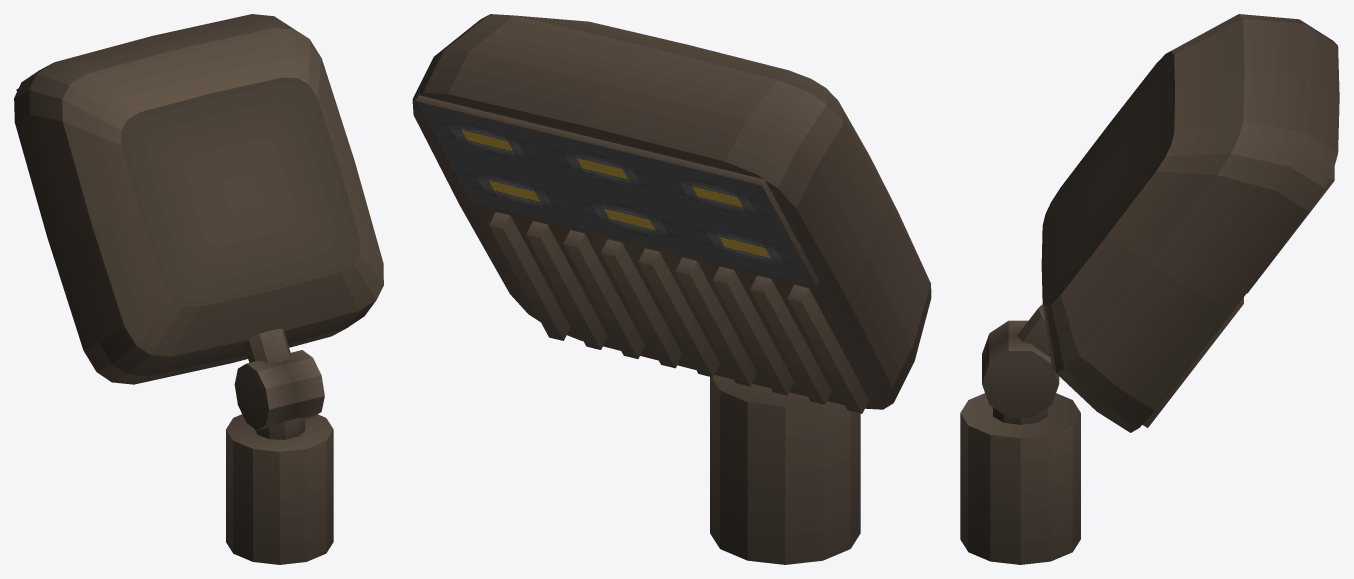
The model's file is floodlight_lithdsxf3sf_g.obj.
3 renders of one model, left to right at view 1: azimuth 30°, elevation 25°; view 2: azimuth 150°, elevation 25°; view 3: azimuth 270°, elevation 25°, orthographic. The views are drawn at different scales.
Visible parts, largest first — view 1: fixture; view 2: fixture; view 3: fixture.
Part boxes in pixels (x1,y1,x2,y2): fixture: (14,14,383,564); fixture: (412,14,931,564); fixture: (960,14,1339,564).
Bounding box in the file's own units: 0.4643 × 0.6739 × 0.4917.
